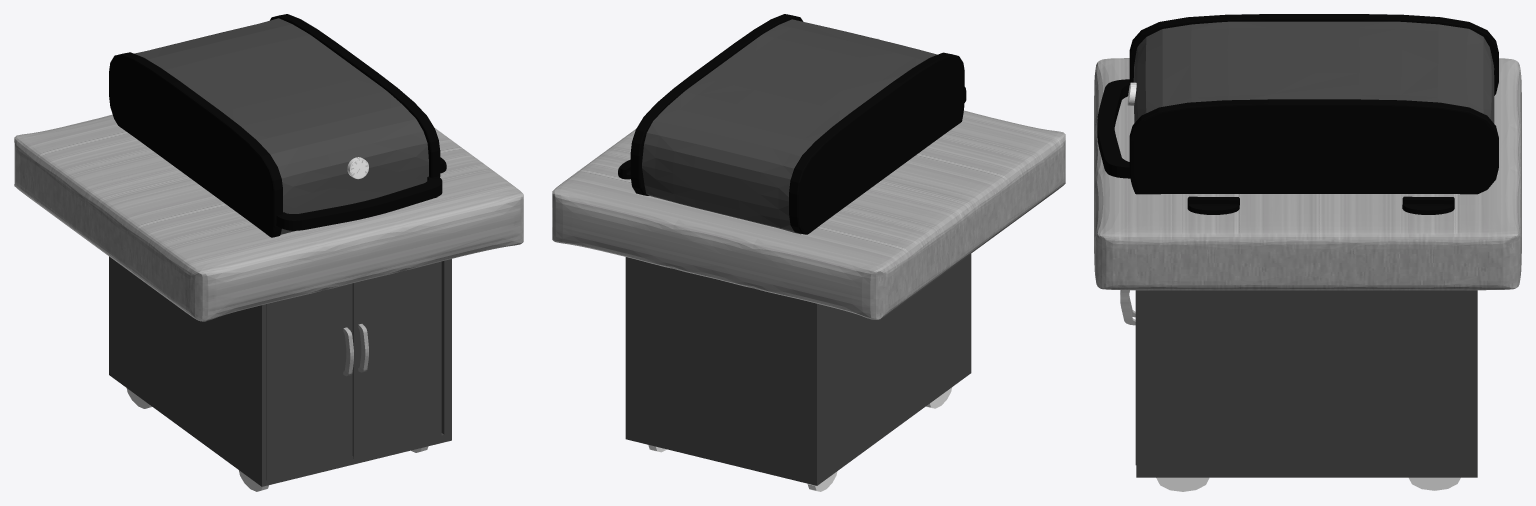
Rendered from sh-contrib-grill-ngauge.glb.
3 views of the same model, side by side, from view 1: azimuth 30°, elevation 25°; view 2: azimuth 150°, elevation 25°; view 3: azimuth 270°, elevation 25° (orthographic). The views are drawn at different scales.
Visible parts, largest first — view 1: PolyMesh_2, PolyMesh_1, PolyMesh_4; view 2: PolyMesh_2, PolyMesh_1, PolyMesh_4; view 3: PolyMesh_2, PolyMesh_1, PolyMesh_4, PolyMesh_6.
Boxes of the visible parts, bbox=[...] form: PolyMesh_2: bbox=[109, 18, 451, 486]; PolyMesh_1: bbox=[14, 114, 523, 376]; PolyMesh_4: bbox=[109, 14, 446, 237]; PolyMesh_2: bbox=[625, 19, 971, 485]; PolyMesh_1: bbox=[552, 110, 1065, 319]; PolyMesh_4: bbox=[618, 14, 966, 234]; PolyMesh_2: bbox=[1133, 21, 1494, 477]; PolyMesh_1: bbox=[1094, 58, 1521, 325]; PolyMesh_4: bbox=[1097, 14, 1498, 214]; PolyMesh_6: bbox=[1156, 477, 1460, 491].
Size of the model in its own units: 1 by 1 by 1.
5 materials, 2 textured.
